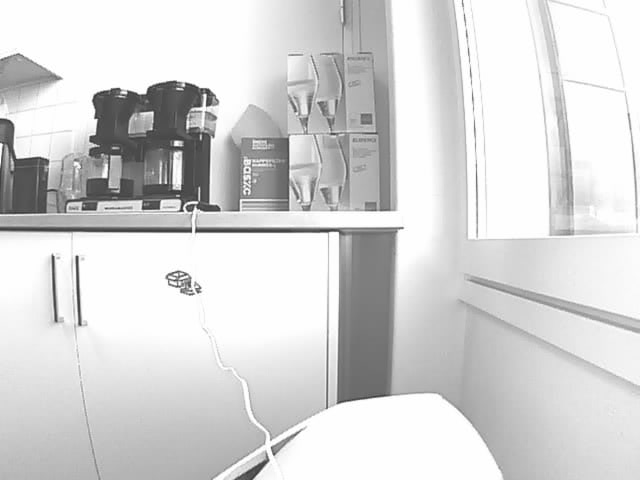not empty coffee: (141, 137, 196, 197)
